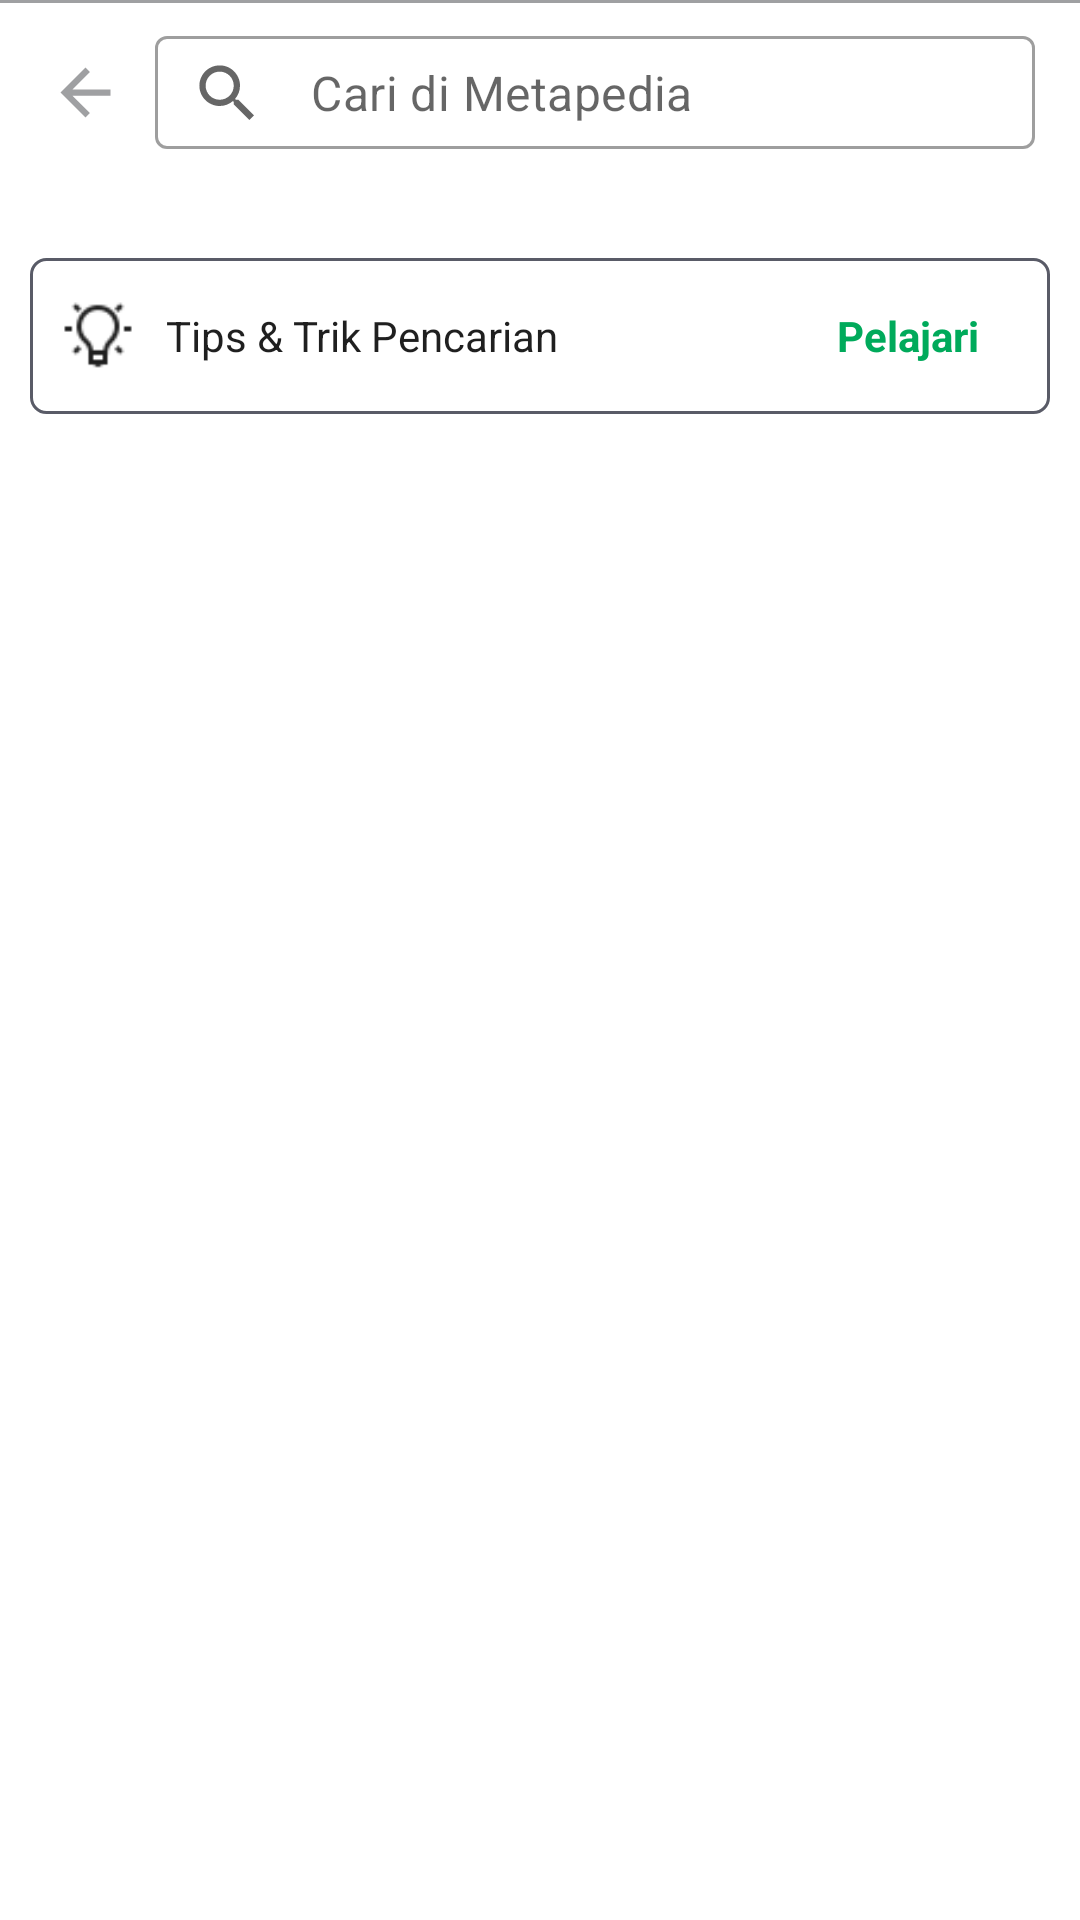

Icons on this 1080x1920 Android screen, each with the point to tap as (x=x, y=y):
back: (x=86, y=92)
